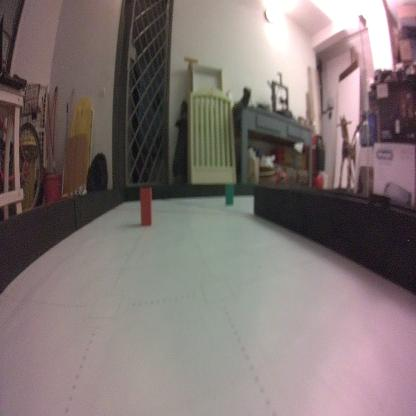green: (224, 182, 233, 204)
red: (138, 186, 154, 228)
